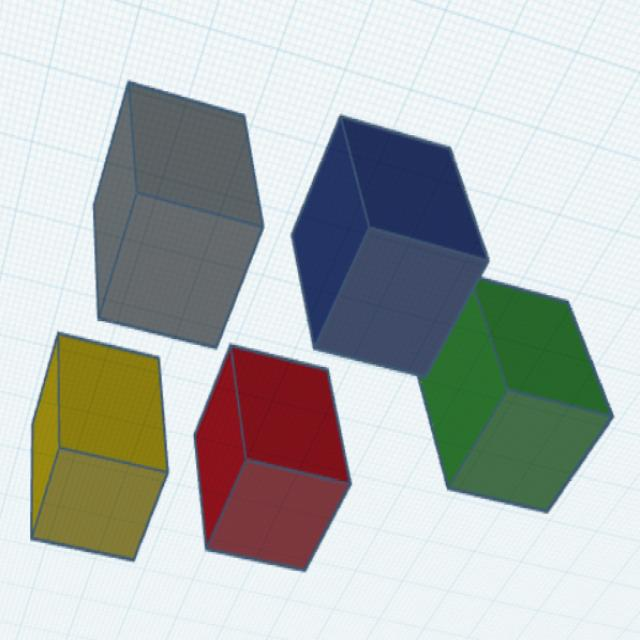cube: (288, 110, 492, 381), (414, 271, 617, 517), (90, 77, 267, 353), (190, 339, 354, 576), (28, 328, 171, 565)
